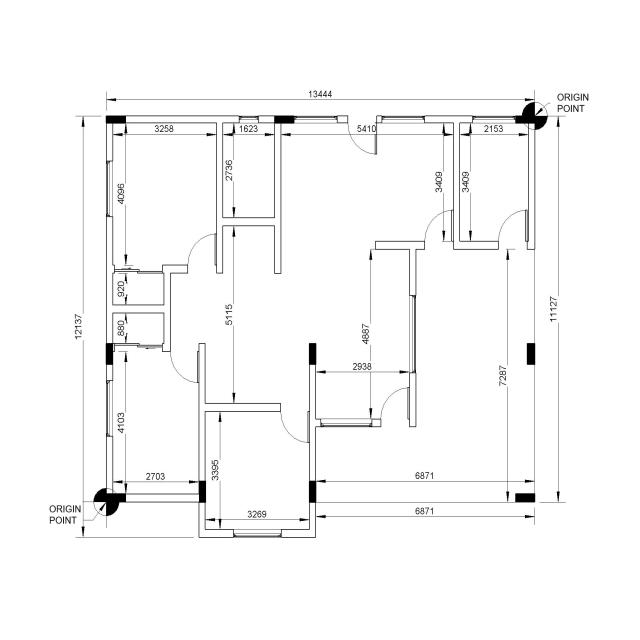Column: (106, 493, 126, 502), (106, 115, 126, 124), (274, 115, 294, 124), (516, 493, 536, 502), (527, 343, 535, 365), (516, 115, 535, 124), (199, 480, 206, 502), (309, 480, 316, 502), (106, 343, 113, 365), (309, 343, 316, 365)
Door: (498, 210, 529, 250), (280, 403, 310, 443), (424, 210, 454, 250), (170, 343, 199, 383), (381, 387, 409, 427), (188, 234, 216, 274), (348, 116, 377, 154)
Sliding Door: (112, 264, 162, 274), (113, 343, 163, 352)
Window: (409, 295, 416, 373), (233, 529, 282, 538), (321, 419, 372, 427), (106, 380, 113, 437), (106, 161, 113, 217), (294, 116, 338, 123), (381, 116, 425, 123), (472, 116, 516, 123), (239, 116, 259, 123)
